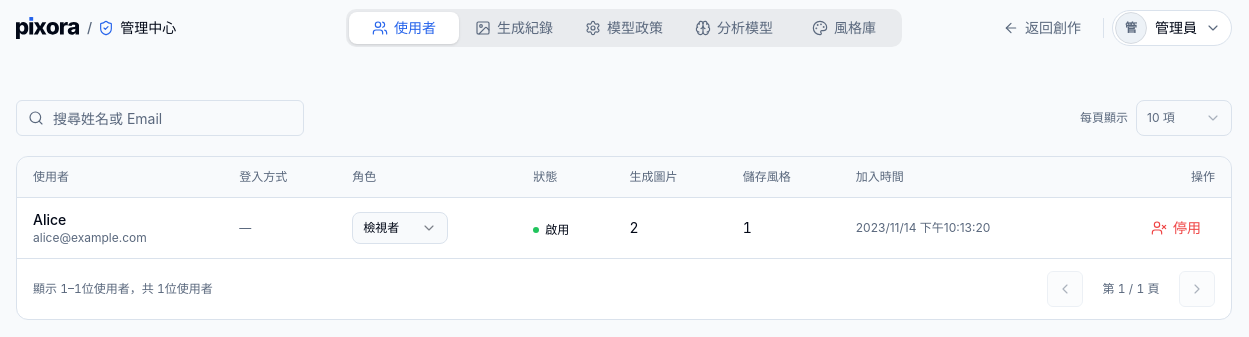
Test: AdminPanel section loading › loads a section once when it is first opened
This screenshot has width=1249, height=337.
Expected: the text "alice@example.com" is shown, x1=33 y1=230 x2=147 y2=245
Step 1. Click the button "生成紀錄" → (514, 28), box x1=459 y1=12 x2=569 y2=44
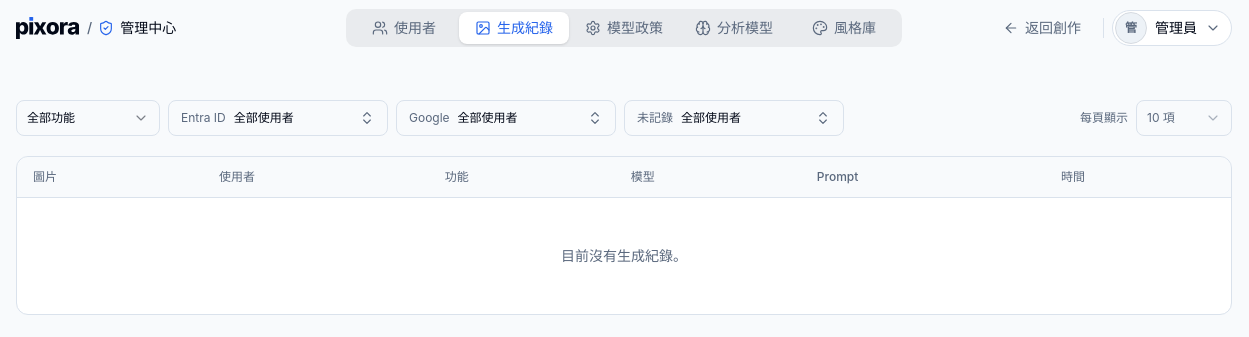
Step 2. Click the button "使用者" → (404, 28), box x1=349 y1=12 x2=459 y2=44
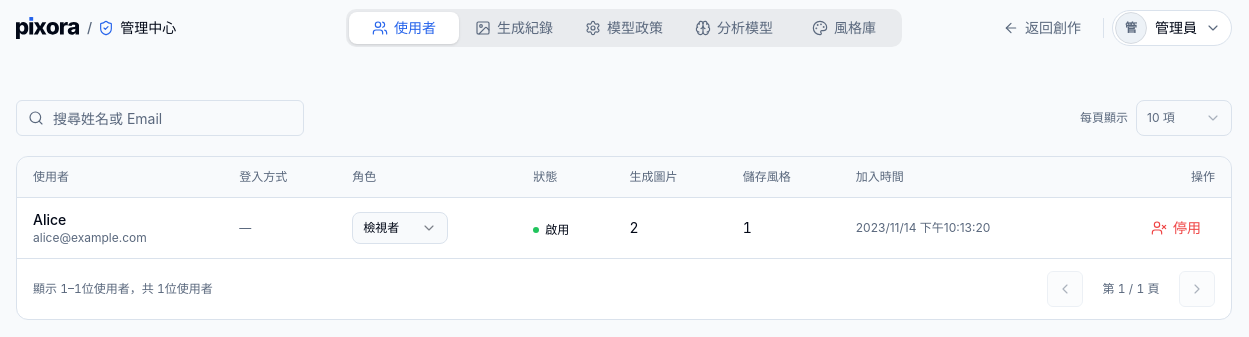
Step 3. Click the button "生成紀錄" → (514, 28), box x1=459 y1=12 x2=569 y2=44
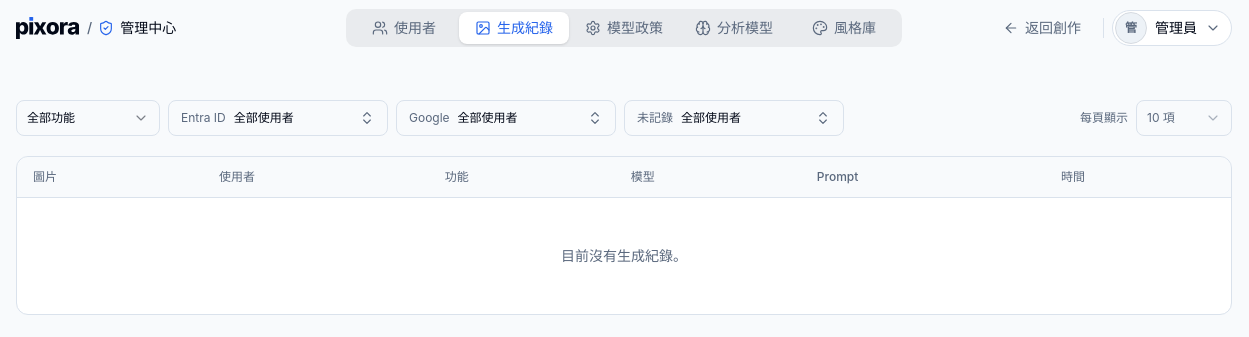
Expected: the text "目前沒有生成紀錄。" is shown, x1=561 y1=247 x2=687 y2=264
